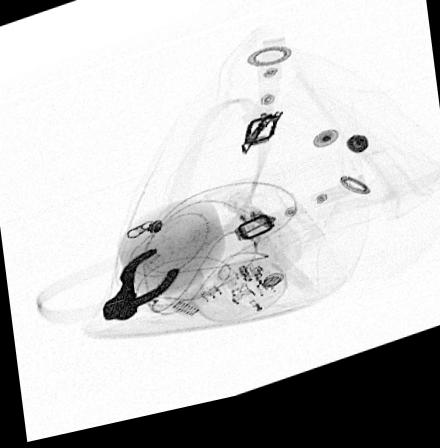Pliers: (99, 251, 183, 328)
